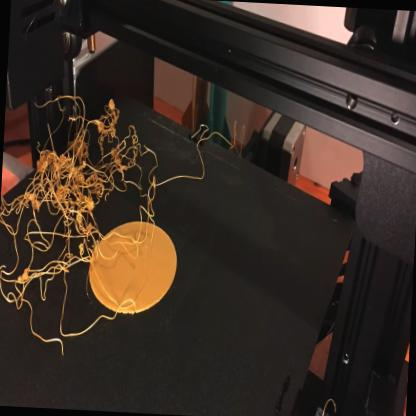fail: (1, 80, 164, 367)
